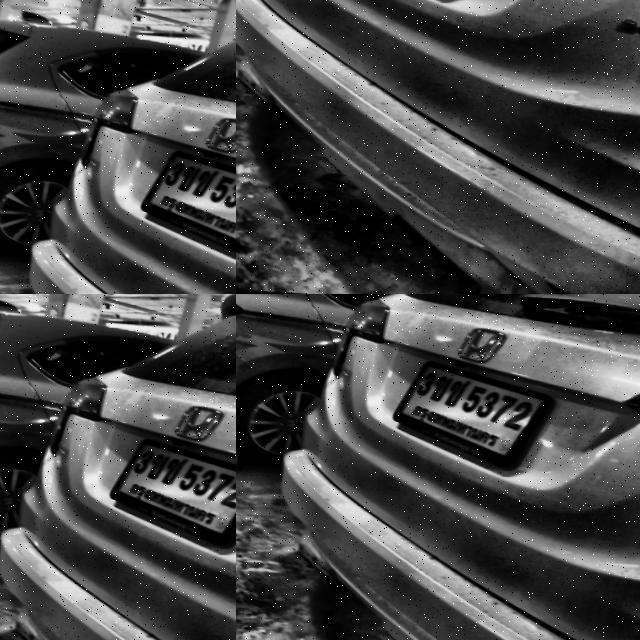license-plate: (403, 364, 548, 455)
